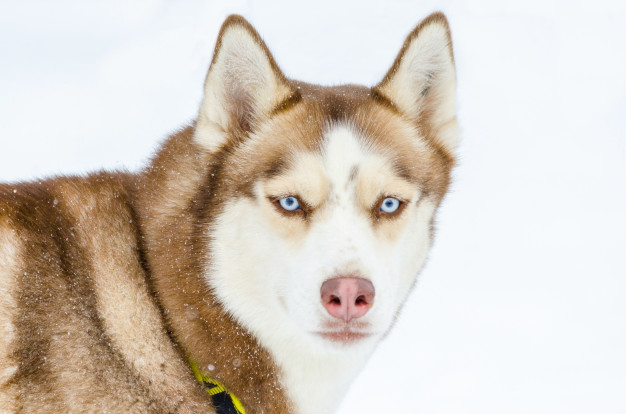husky: (111, 12, 477, 375)
